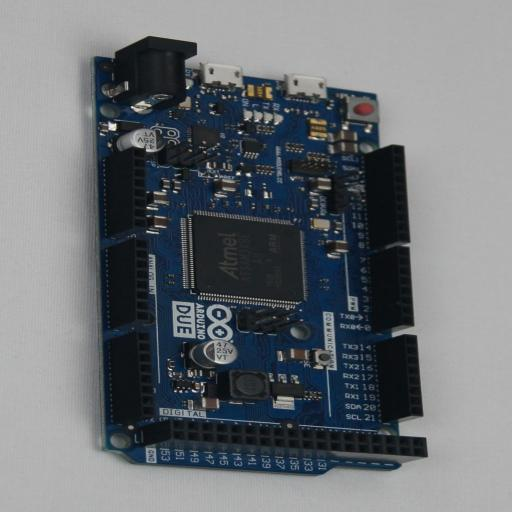Arduino Due: (88, 36, 428, 476)
